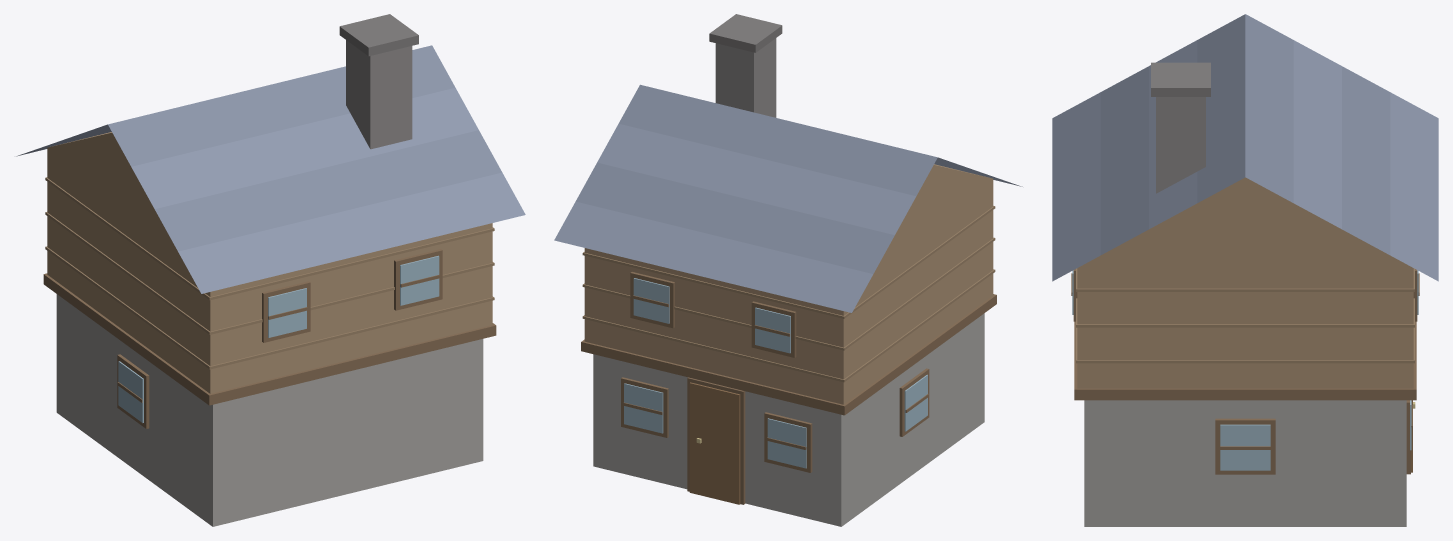
Rendered from house_chimney.glb.
The picture shows the model from 3 angles, left to right: view 1: azimuth 30°, elevation 25°; view 2: azimuth 150°, elevation 25°; view 3: azimuth 270°, elevation 25°; orthographic projection. The views are drawn at different scales.
Parts seen in each view (by area): view 1: house_chimney; view 2: house_chimney; view 3: house_chimney.
Boxes of the visible parts, left/top/right/bottom form: house_chimney: left=16, top=14, right=525, bottom=526; house_chimney: left=554, top=14, right=1022, bottom=526; house_chimney: left=1052, top=14, right=1438, bottom=526.
Bounding box in the file's own units: 5.4 × 6.52 × 5.4.
